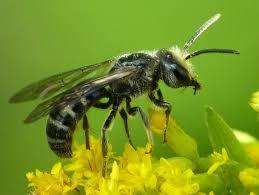Lasioglossum: (10, 9, 239, 165)
